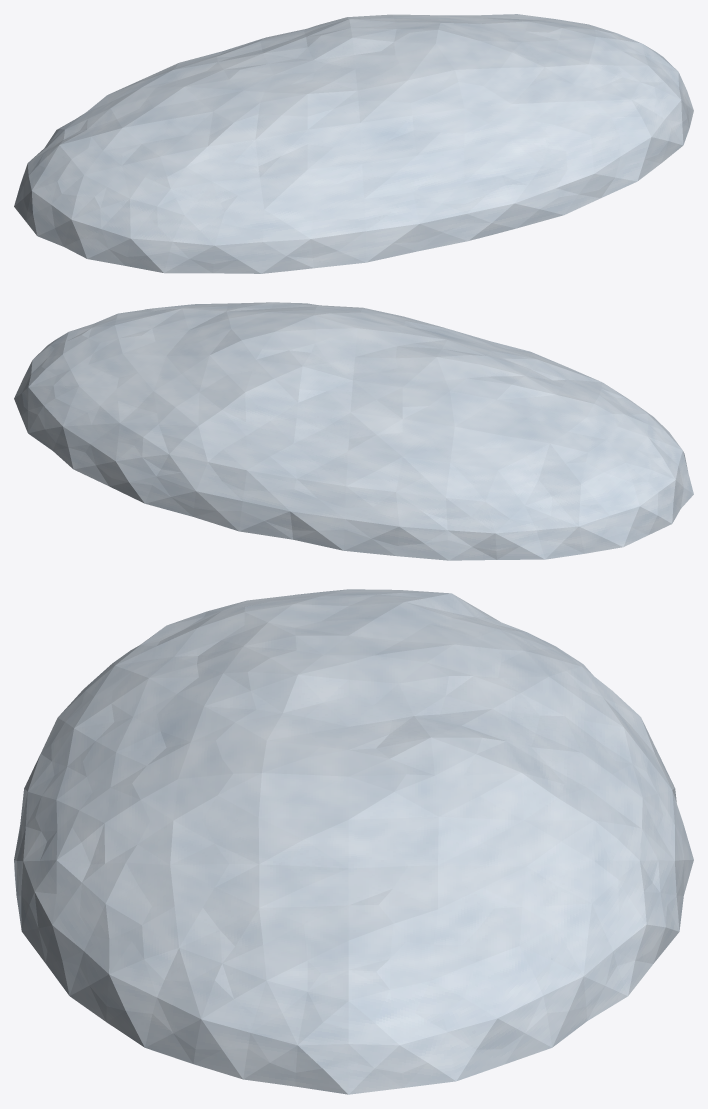
Rendered from snow_drift_b.glb.
3 views of the same model, one above another, from view 1: azimuth 30°, elevation 25°; view 2: azimuth 150°, elevation 25°; view 3: azimuth 270°, elevation 25° (orthographic). The views are drawn at different scales.
Parts seen in each view (by area): view 1: snow_drift_b; view 2: snow_drift_b; view 3: snow_drift_b.
Boxes of the visible parts, bbox=[...] form: snow_drift_b: bbox=[14, 14, 693, 273]; snow_drift_b: bbox=[14, 302, 693, 560]; snow_drift_b: bbox=[14, 589, 693, 1094].
Size of the model in its own units: 2.9 by 0.4558 by 1.79.
Materials: 2 (2 with a texture image).
